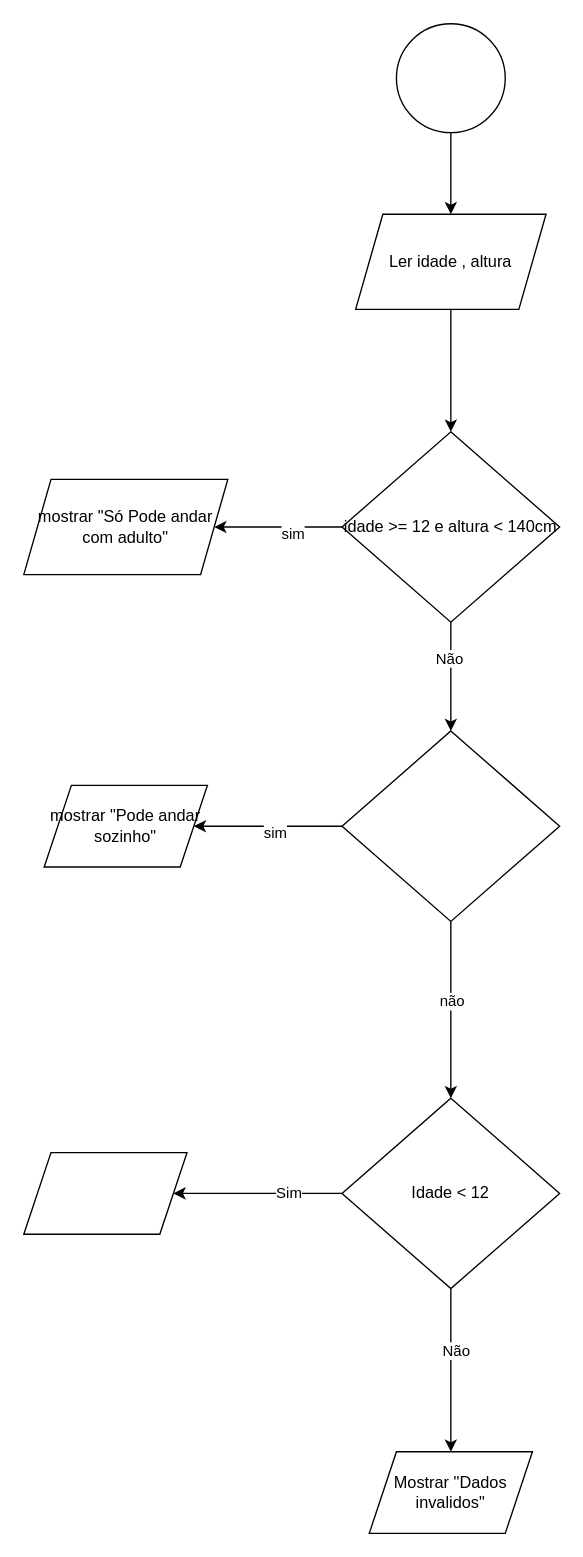
Image size: 583x1557. Some labels were removed from this diagram. Each missing label, with the centre of its shape:
idade >= 12 e altura >= 140cm: (x=450, y=825)
Inicio: (x=450, y=77)
mostrar "Não pode andar": (x=104, y=1192)
